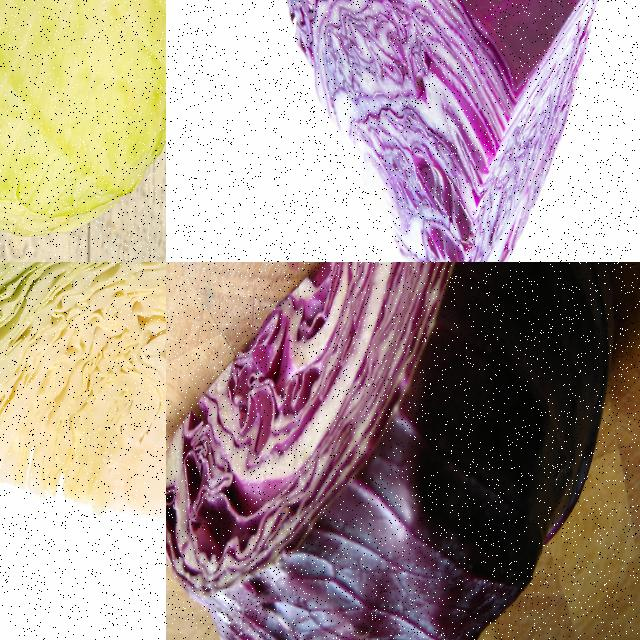cabbage: (166, 262, 631, 639), (282, 0, 614, 261), (0, 262, 165, 555), (0, 0, 165, 242)
